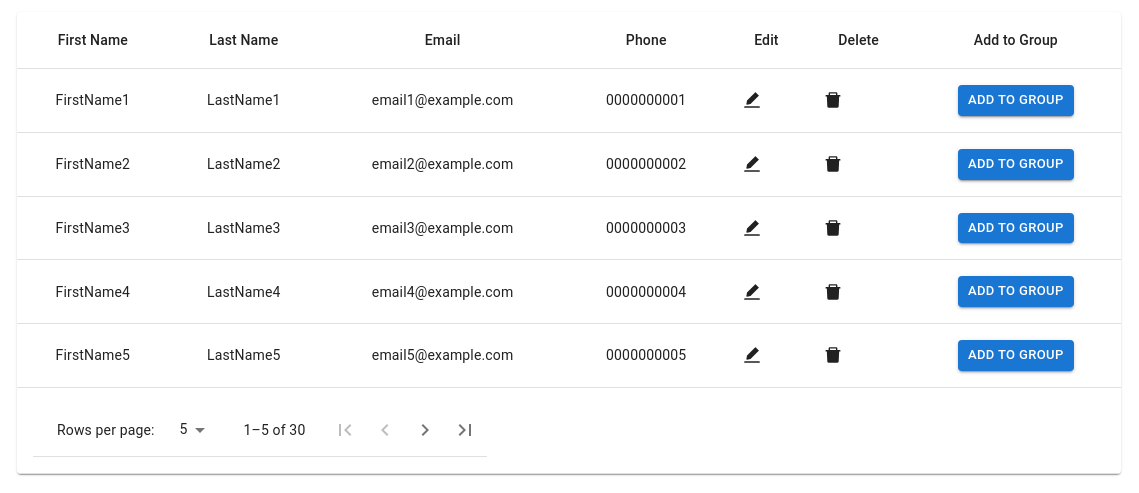
Scenario: ContactList Component › handles pagination correctly
Expected: the button named "previous page" is disabled, [365,410,405,450]
Click the button named "next page".
click(425, 430)  # box [405,410,445,450]
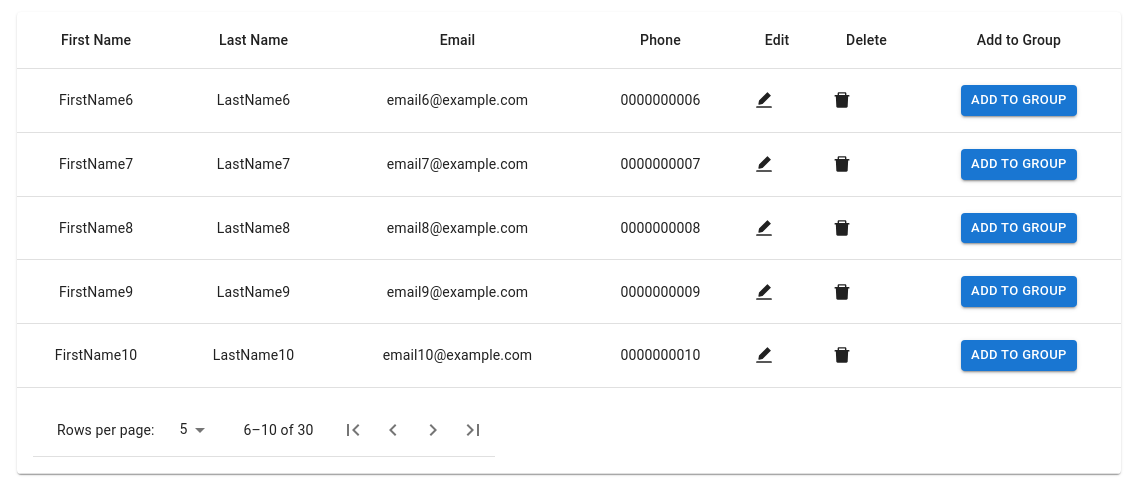
Expected: the button named "previous page" is enabled, [373,410,413,450]
